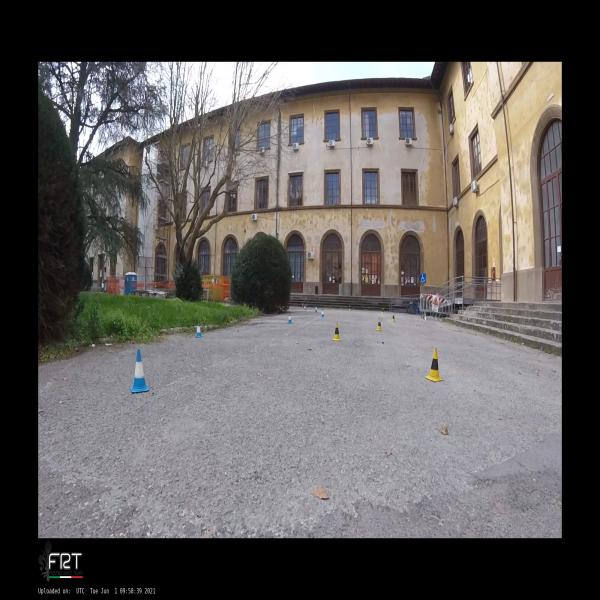blue_cone: (130, 349, 150, 394), (195, 322, 203, 338), (287, 314, 293, 324), (320, 308, 324, 317), (314, 306, 317, 313), (304, 305, 306, 310)
unknown_cone: (301, 302, 304, 308), (306, 303, 308, 308)
yellow_cone: (425, 348, 443, 383), (332, 322, 342, 342), (375, 318, 383, 332), (391, 313, 396, 322), (381, 307, 385, 315), (348, 305, 351, 310)
